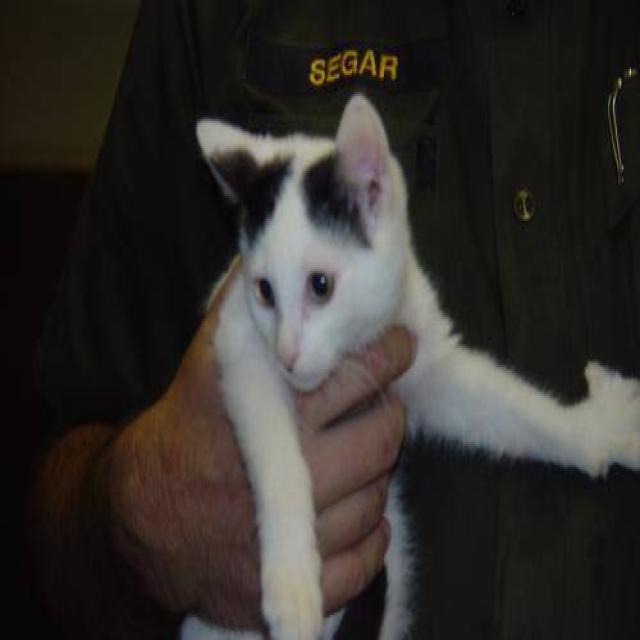Cat: (187, 92, 420, 392)
